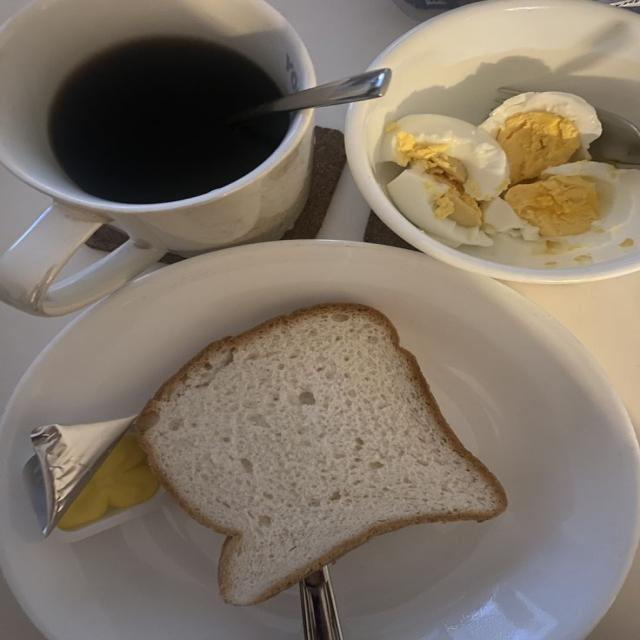egg boiled: (504, 161, 639, 245), (480, 92, 601, 185), (380, 115, 508, 200), (387, 170, 493, 247)
sliced bread: (137, 303, 506, 605)
